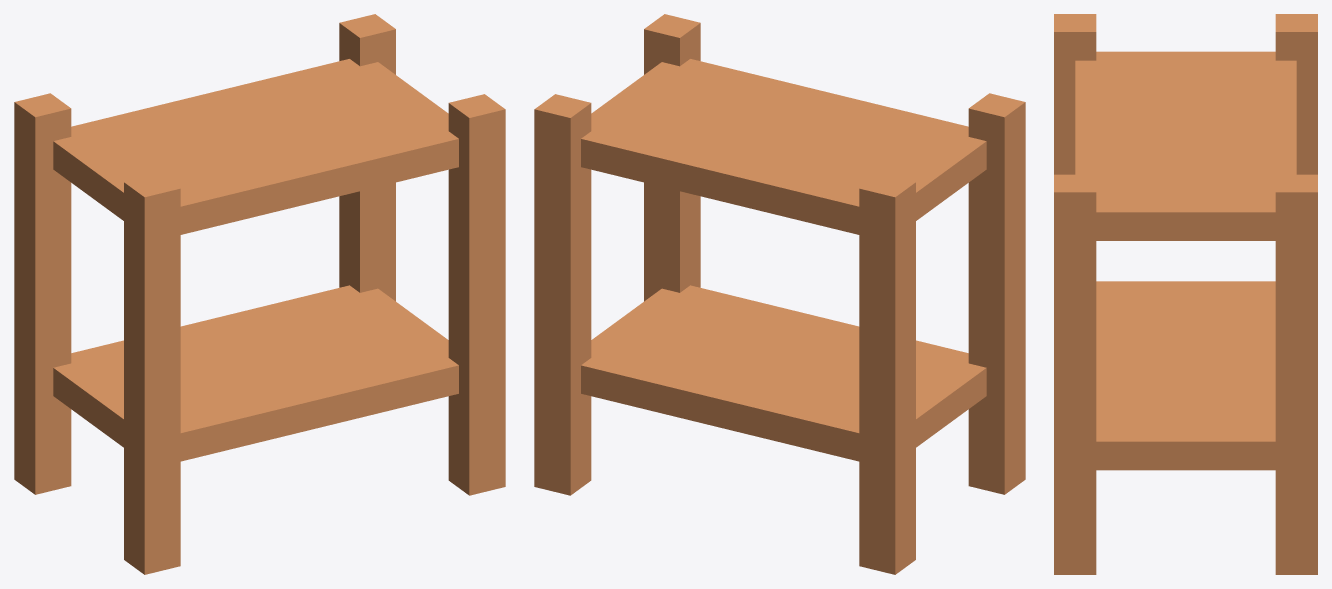
File: Bookcase Open Low.glb
3 views of the same model, side by side, from view 1: azimuth 30°, elevation 25°; view 2: azimuth 150°, elevation 25°; view 3: azimuth 270°, elevation 25° (orthographic).
Parts seen in each view (by area): view 1: bookcaseOpenLow; view 2: bookcaseOpenLow; view 3: bookcaseOpenLow.
Part boxes in pixels (left/top/right/bottom): bookcaseOpenLow: left=14, top=14, right=505, bottom=574; bookcaseOpenLow: left=534, top=14, right=1025, bottom=574; bookcaseOpenLow: left=1054, top=14, right=1317, bottom=574.
Bounding box in the file's own units: 0.4 × 0.4 × 0.25.
